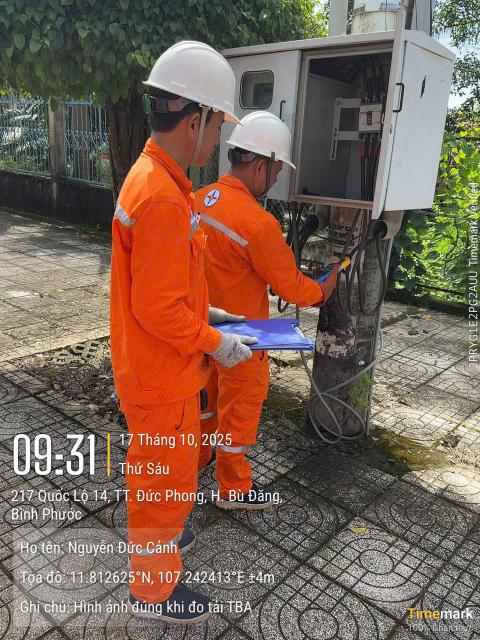gloves: (203, 323, 257, 374), (185, 290, 248, 331), (298, 270, 352, 308)
helmet: (135, 31, 272, 129), (223, 98, 321, 179)
shoes: (124, 572, 219, 634), (201, 477, 289, 522), (135, 527, 208, 555)
